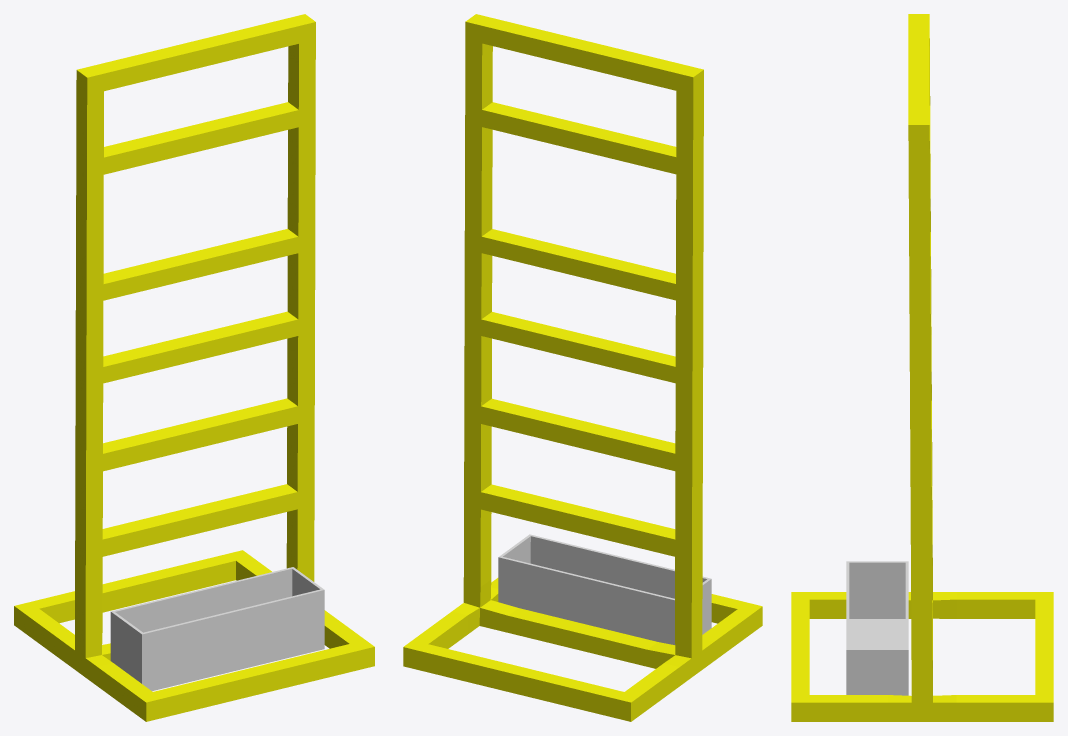
The model's file is Frame_and_reservoir.fbx.
The picture shows the model from 3 angles, left to right: view 1: azimuth 30°, elevation 25°; view 2: azimuth 150°, elevation 25°; view 3: azimuth 270°, elevation 25°; orthographic projection.
Parts seen in each view (by area): view 1: Tank3Frame, Reservoir; view 2: Tank3Frame, Reservoir; view 3: Tank3Frame, Reservoir.
Boxes of the visible parts, x1,y1,x2,y2 form: Tank3Frame: [14, 14, 374, 721]; Reservoir: [110, 567, 324, 691]; Tank3Frame: [403, 14, 762, 721]; Reservoir: [498, 534, 711, 644]; Tank3Frame: [791, 14, 1053, 721]; Reservoir: [846, 561, 908, 695].
Bounding box in the file's own units: 59.15 × 149 × 59.15.
